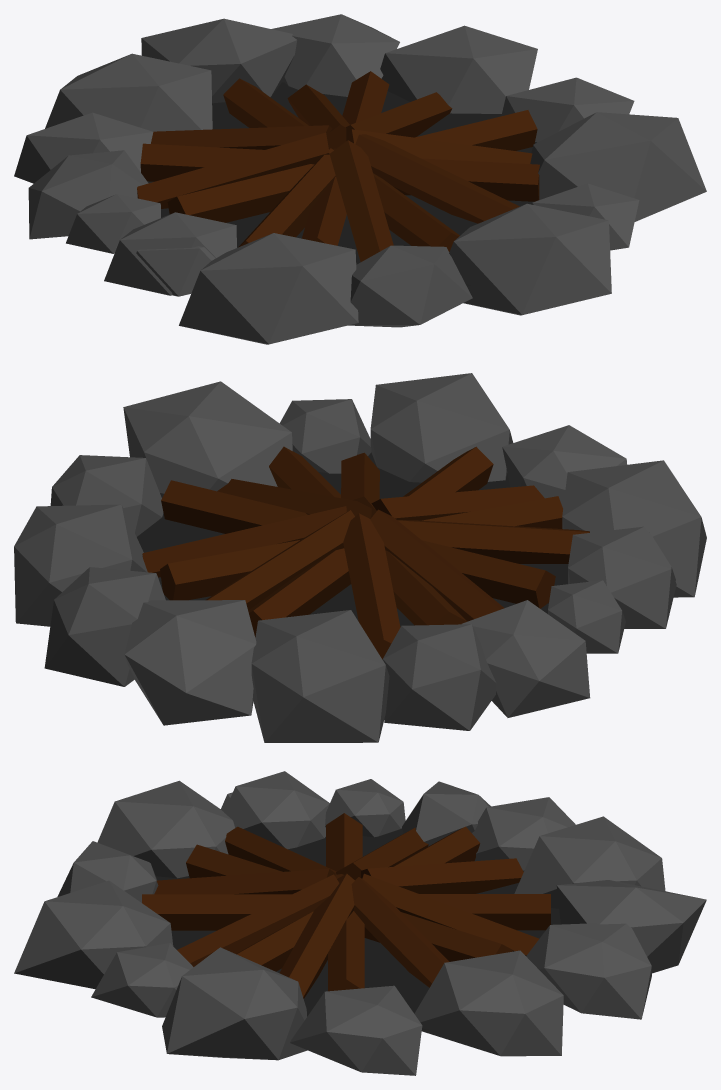
Rendered from Ognisko.fbx.
3 views of the same model, one above another, from view 1: azimuth 30°, elevation 25°; view 2: azimuth 150°, elevation 25°; view 3: azimuth 270°, elevation 25° (orthographic). The views are drawn at different scales.
Parts seen in each view (by area): view 1: OgniskoPnie, Kamień.013, Kamień, Kamień.002, Kamień.009, Kamień.004, Kamień.011, Kamień.018, Kamień.005, Kamień.003, Kamień.008, Kamień.010 (+5 smaller); view 2: OgniskoPnie, Kamień.004, Kamień.018, Kamień.002, Kamień, Kamień.013, Kamień.009, Kamień.010, Kamień.003, Kamień.005, Kamień.008, Kamień.006 (+4 smaller); view 3: OgniskoPnie, Kamień.002, Kamień.009, Kamień, Kamień.005, Kamień.006, Kamień.013, Kamień.004, Kamień.018, Kamień.008, Wypełnienie, Kamień.001 (+4 smaller).
Part boxes in pixels (x1,y1,x2,y2): OgniskoPnie: [137, 71, 539, 261]; Kamień.013: [179, 233, 358, 344]; Kamień: [449, 203, 611, 315]; Kamień.002: [530, 112, 706, 221]; Kamień.009: [380, 25, 537, 113]; Kamień.004: [45, 53, 212, 131]; Kamień.011: [348, 245, 472, 327]; Kamień.018: [141, 18, 297, 103]; Kamień.005: [271, 14, 399, 96]; Kamień.003: [28, 150, 148, 239]; Kamień.008: [104, 212, 236, 295]; Kamień.010: [14, 112, 153, 183]; OgniskoPnie: [142, 446, 589, 659]; Kamień.004: [251, 610, 389, 742]; Kamień.018: [124, 600, 256, 725]; Kamień.002: [123, 381, 292, 493]; Kamień: [370, 373, 513, 482]; Kamień.013: [562, 460, 706, 597]; Kamień.009: [14, 504, 147, 626]; Kamień.010: [382, 624, 496, 730]; Kamień.003: [462, 600, 590, 717]; Kamień.005: [44, 567, 165, 686]; Kamień.008: [568, 526, 676, 628]; Kamień.006: [50, 455, 163, 536]; OgniskoPnie: [142, 813, 550, 998]; Kamień.002: [162, 947, 307, 1060]; Kamień.009: [414, 950, 563, 1056]; Kamień: [14, 880, 173, 989]; Kamień.005: [526, 923, 651, 1019]; Kamień.006: [290, 985, 422, 1075]; Kamień.013: [97, 780, 234, 878]; Kamień.004: [514, 816, 665, 908]; Kamień.018: [556, 880, 706, 973]; Kamień.008: [224, 771, 329, 849]; Wypełnienie: [155, 828, 560, 1030]; Kamień.001: [91, 943, 193, 1017].
Bounding box in the file's own units: 39.85 × 7.08 × 45.36.
